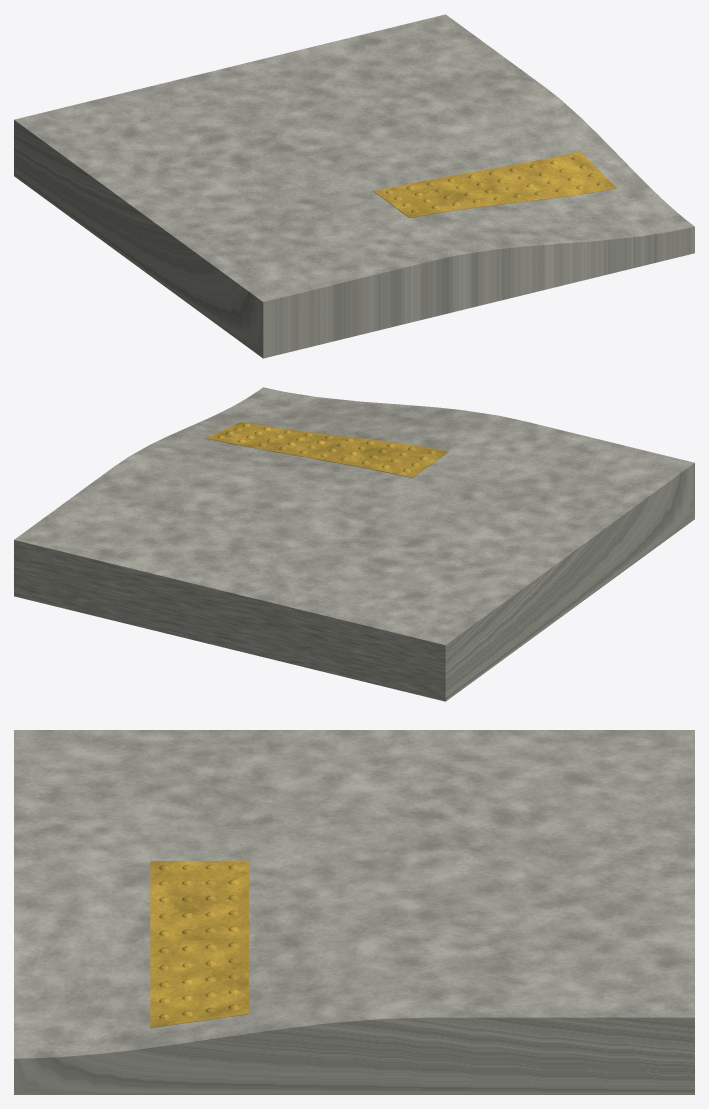
The model's file is PZ_Ramp_Corner_Right_2x2.glb.
The picture shows the model from 3 angles, top to bottom: view 1: azimuth 30°, elevation 25°; view 2: azimuth 150°, elevation 25°; view 3: azimuth 270°, elevation 25°; orthographic projection. The views are drawn at different scales.
Visible parts, largest first — view 1: PZ_Ramp_Corner_Right_2x2__Monolithic_Ramp_2x2, PZ_Ramp_Corner_Right_2x2__Tactile_Warning_Base, PZ_Ramp_Corner_Right_2x2__Tactile_Domes; view 2: PZ_Ramp_Corner_Right_2x2__Monolithic_Ramp_2x2, PZ_Ramp_Corner_Right_2x2__Tactile_Warning_Base, PZ_Ramp_Corner_Right_2x2__Tactile_Domes; view 3: PZ_Ramp_Corner_Right_2x2__Monolithic_Ramp_2x2, PZ_Ramp_Corner_Right_2x2__Tactile_Warning_Base, PZ_Ramp_Corner_Right_2x2__Tactile_Domes.
Boxes of the visible parts, x1,y1,x2,y2 form: PZ_Ramp_Corner_Right_2x2__Monolithic_Ramp_2x2: (14,14,694,358); PZ_Ramp_Corner_Right_2x2__Tactile_Warning_Base: (373,151,616,217); PZ_Ramp_Corner_Right_2x2__Tactile_Domes: (386,156,604,212); PZ_Ramp_Corner_Right_2x2__Monolithic_Ramp_2x2: (14,387,694,701); PZ_Ramp_Corner_Right_2x2__Tactile_Warning_Base: (205,421,448,477); PZ_Ramp_Corner_Right_2x2__Tactile_Domes: (217,423,436,472); PZ_Ramp_Corner_Right_2x2__Monolithic_Ramp_2x2: (14,730,694,1094); PZ_Ramp_Corner_Right_2x2__Tactile_Warning_Base: (150,860,248,1027); PZ_Ramp_Corner_Right_2x2__Tactile_Domes: (159,864,239,1019).
Bounding box in the file's own units: 2 × 0.2602 × 2.
2 materials, 2 textured.
